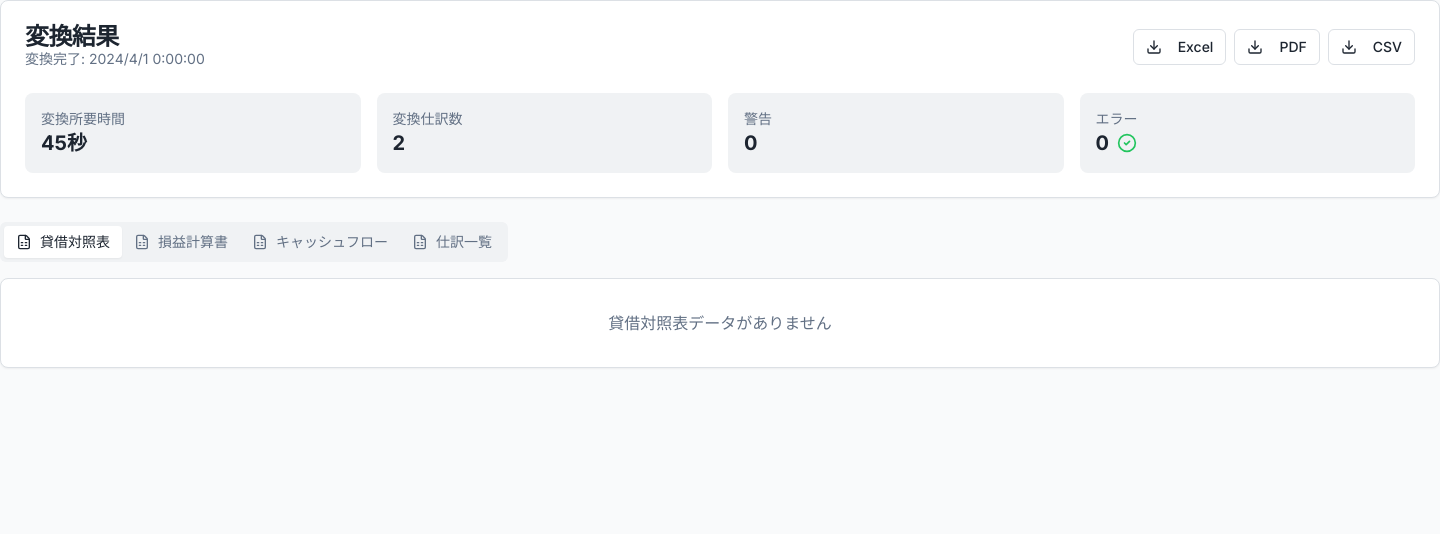
Test case: conversion-result-viewer — journals tab › renders the journal count description and a row per journal
The image size is (1440, 534).
Step 1. Press the mouse on the tab "仕訳一覧" → [452, 242], box [400, 226, 504, 258]
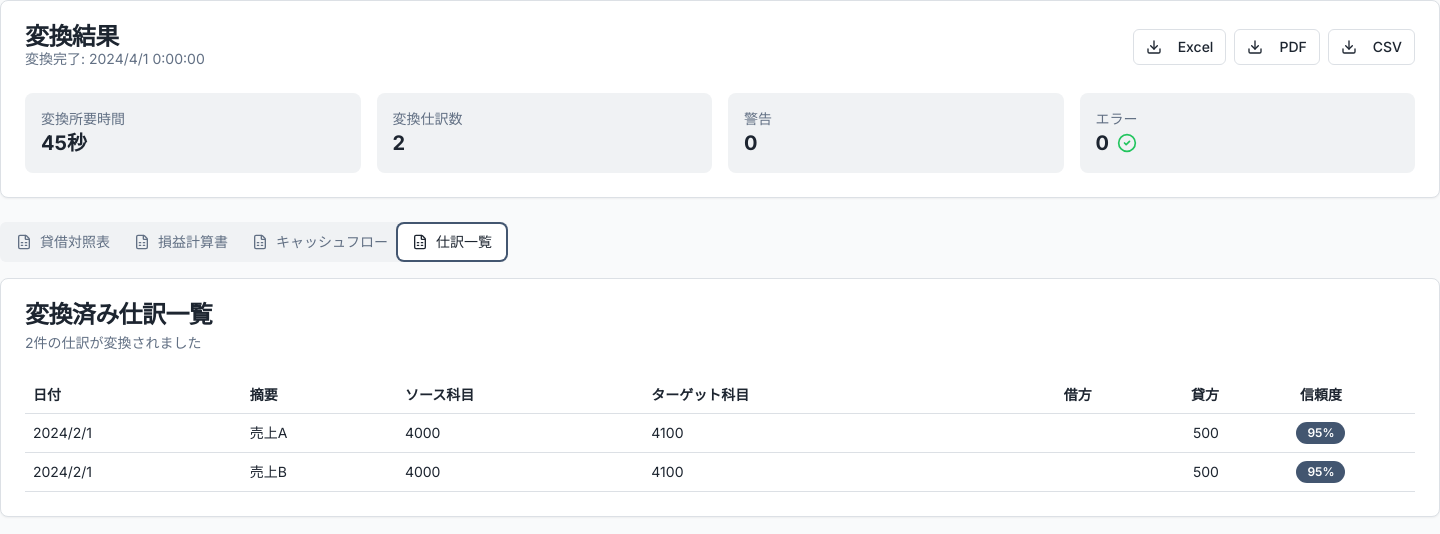
Check: the text "2件の仕訳が変換されました" is shown, box [25, 334, 202, 351]
Check: the text "売上A" is shown, box [242, 414, 397, 452]
Check: the text "売上B" is shown, box [242, 452, 397, 492]
